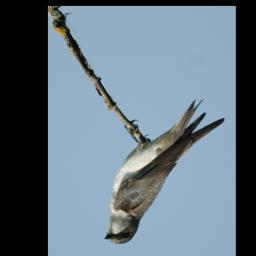Swallow: (102, 98, 227, 245)
